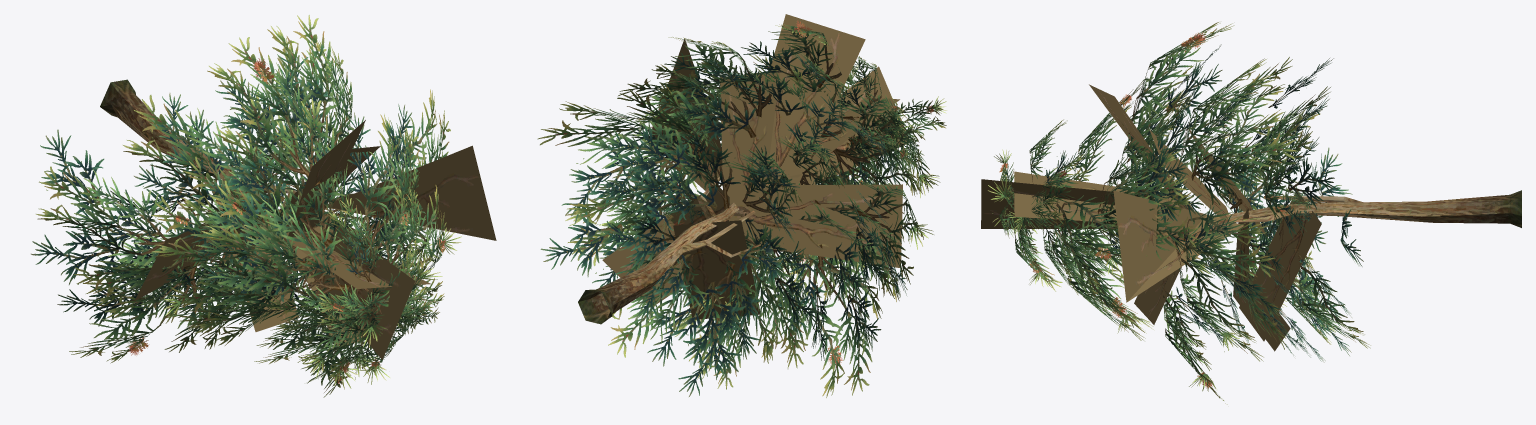
The model's file is hongqianceng.obj.
3 views of the same model, side by side, from view 1: azimuth 30°, elevation 25°; view 2: azimuth 150°, elevation 25°; view 3: azimuth 270°, elevation 25° (orthographic). The views are drawn at different scales.
Parts seen in each view (by area): view 1: hongqianceng; view 2: hongqianceng; view 3: hongqianceng.
Boxes of the visible parts, <box> form: hongqianceng: <box>31,15,496,397</box>; hongqianceng: <box>537,14,946,397</box>; hongqianceng: <box>981,22,1521,404</box>.
Size of the model in its own units: 233 by 206 by 282.
3 materials, 3 textured.
